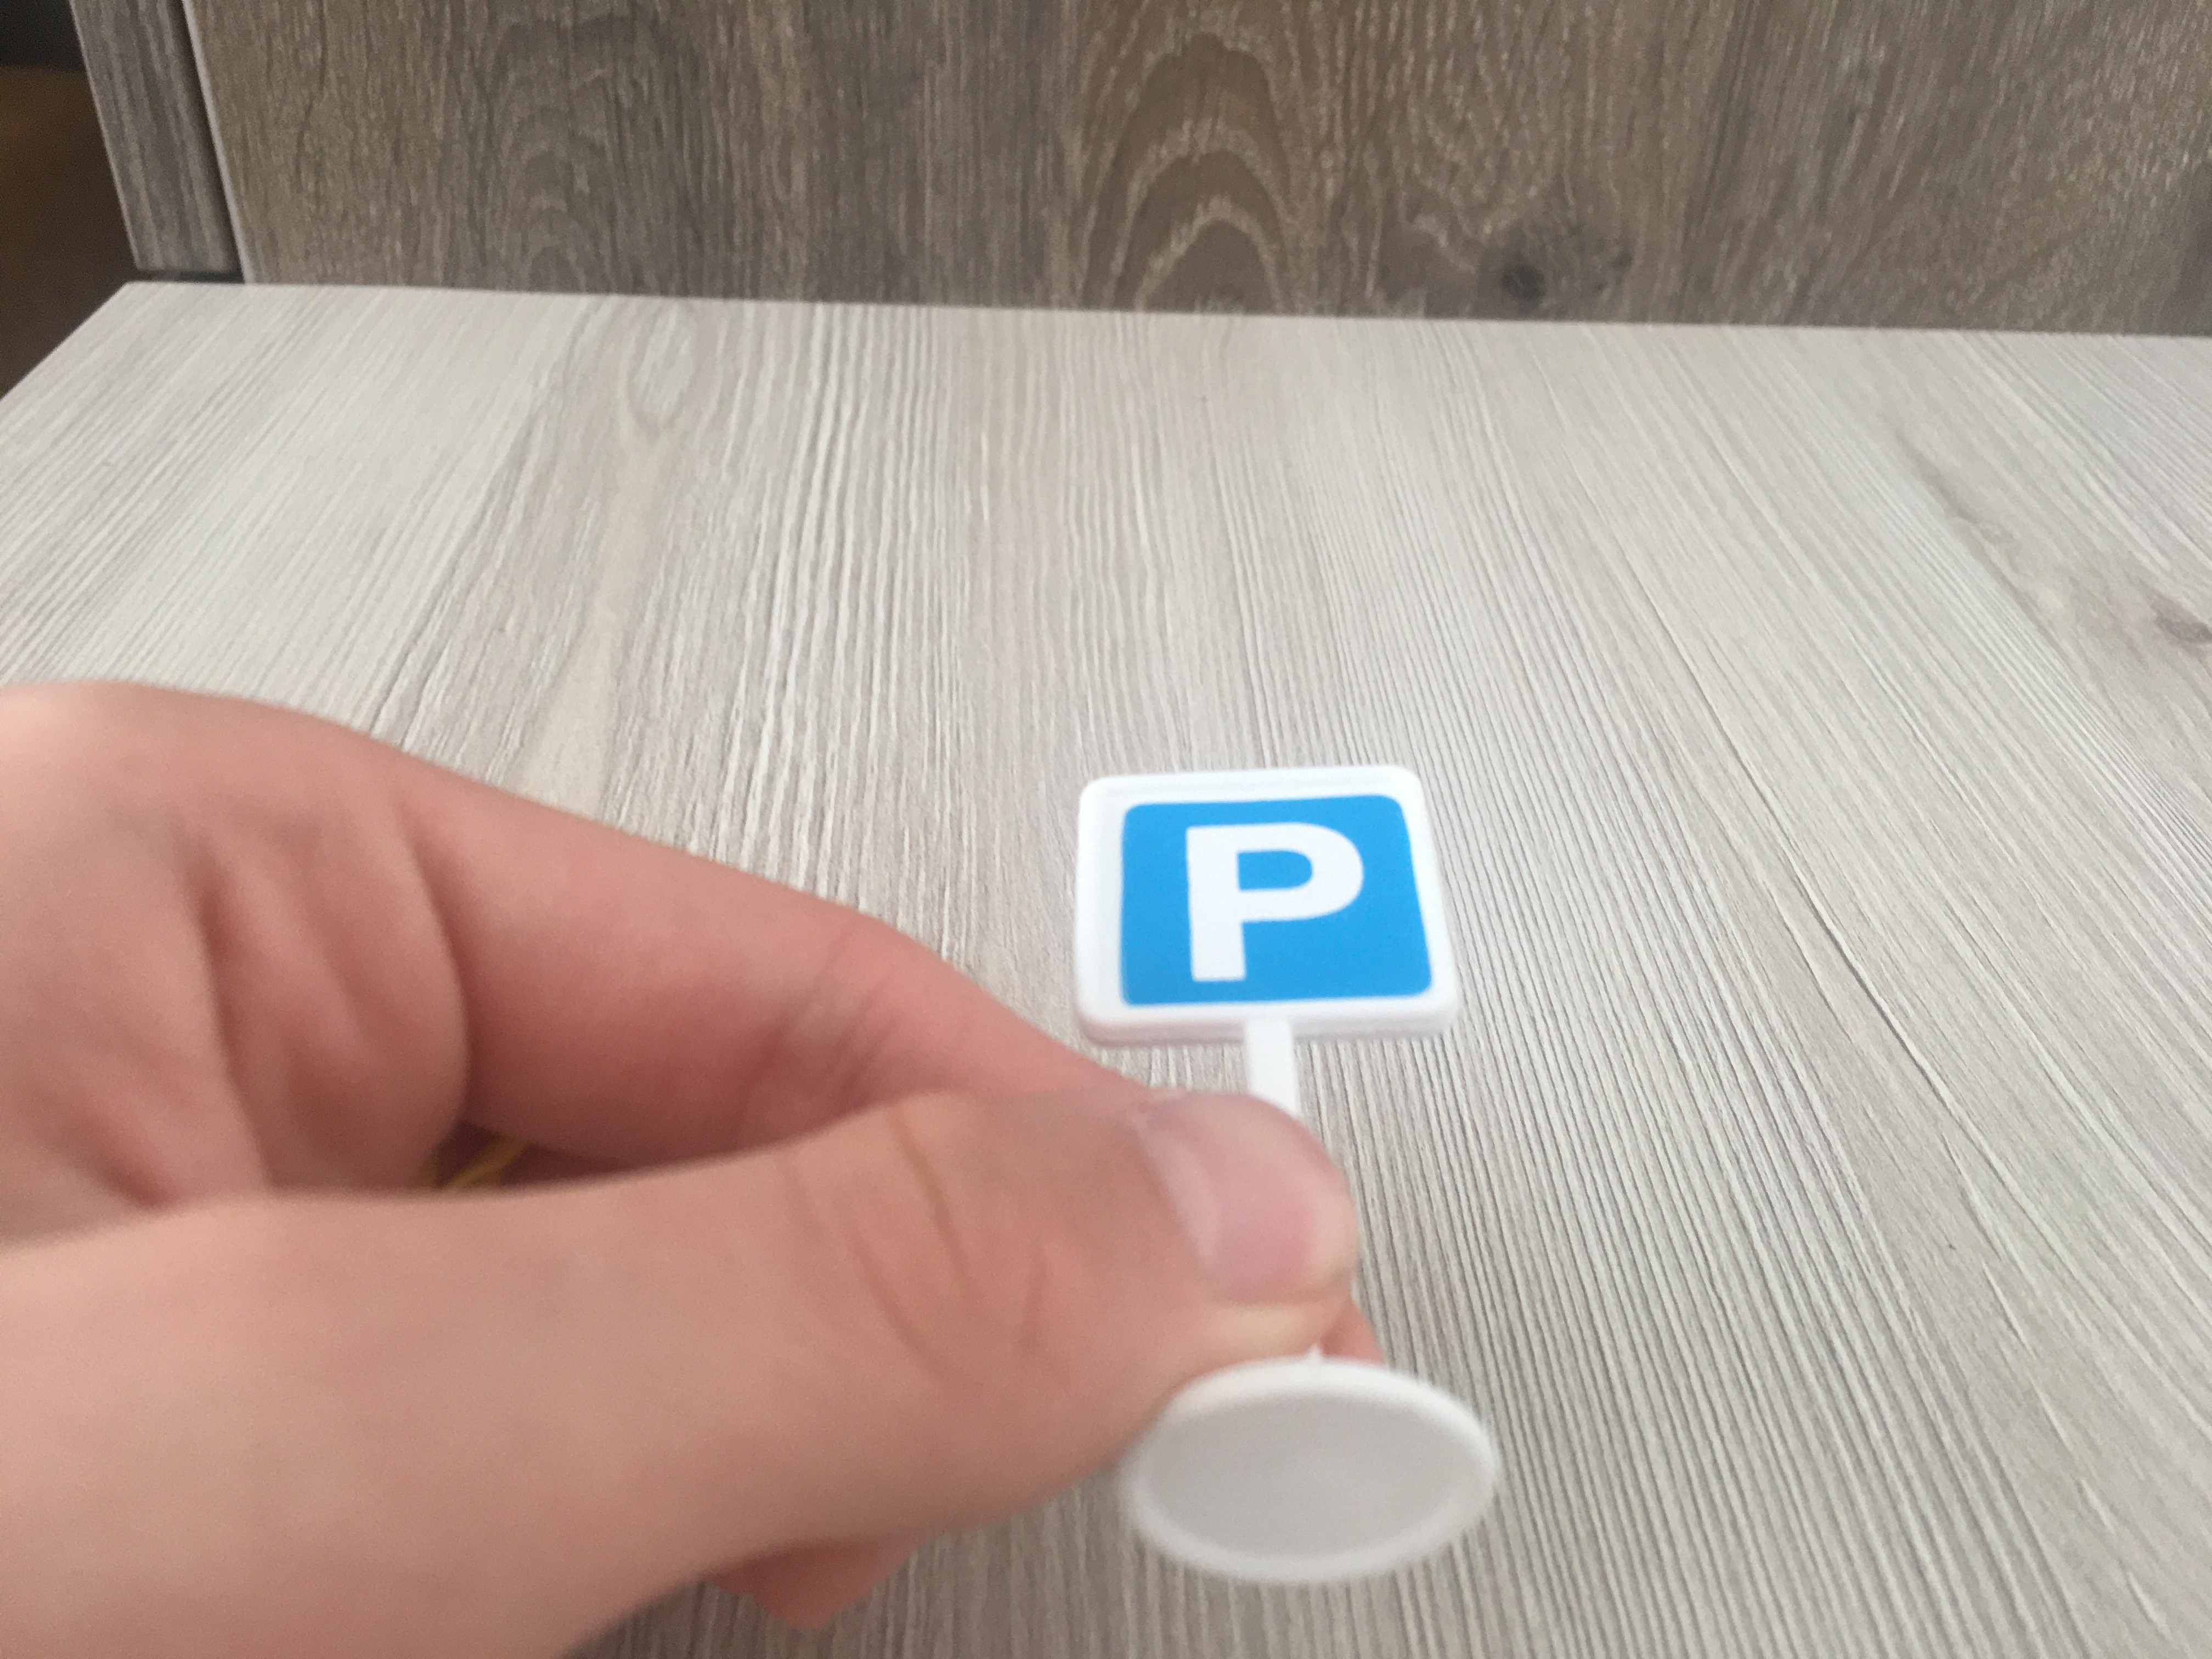parking: (1080, 770, 1451, 1030)
